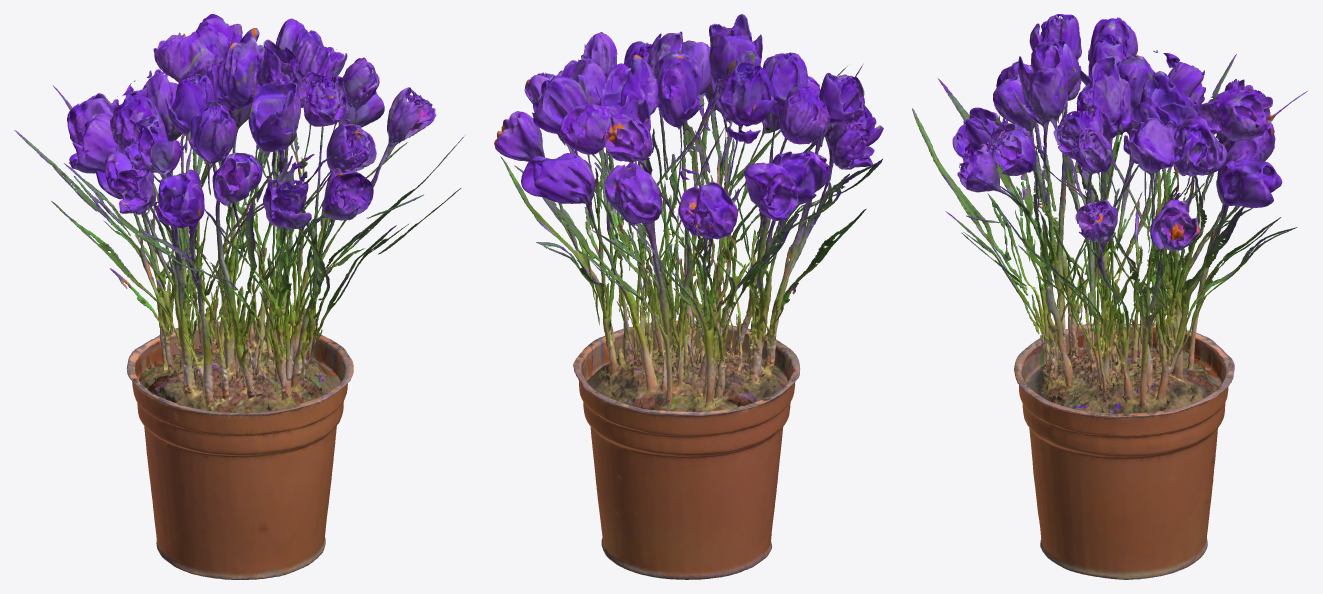
The model's file is CrocusMix3dModel.glb.
The picture shows the model from 3 angles, left to right: view 1: azimuth 30°, elevation 25°; view 2: azimuth 150°, elevation 25°; view 3: azimuth 270°, elevation 25°; orthographic projection.
Bounding box in the file's own units: 1.48 × 1.96 × 1.42.
Materials: 1 (1 with a texture image).
